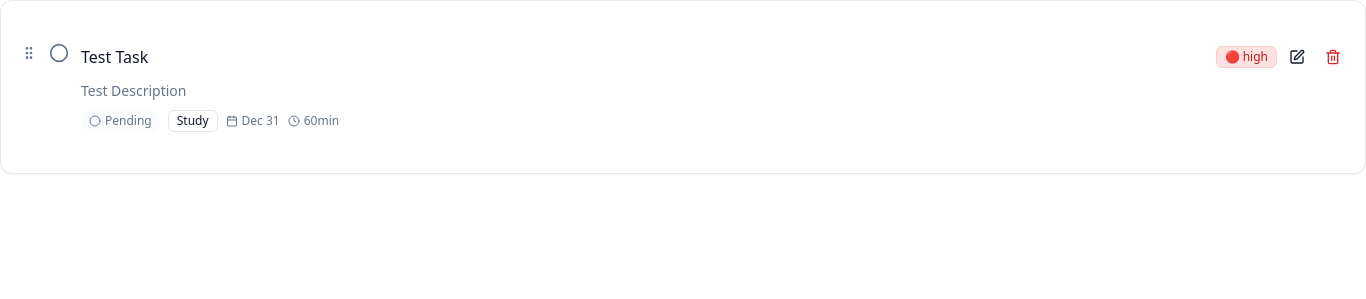
it: TaskItem › cancels edit mode when cancel button is clicked
// Open edit mode
Click the button named "edit task".
click(1297, 57)  # box [1281,41,1313,73]
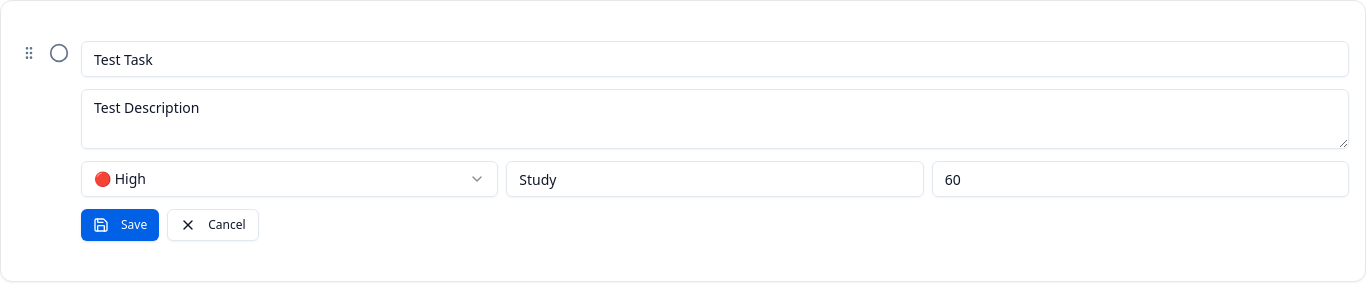
// Cancel edit
Click the button "Cancel".
click(213, 225)  # box [167,209,259,241]
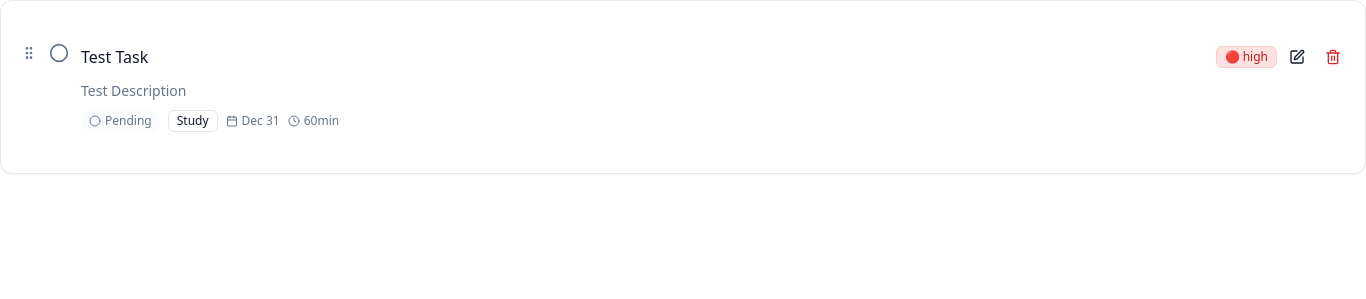
Check: the heading "Test Task" is shown, box [81,45,148,69]
